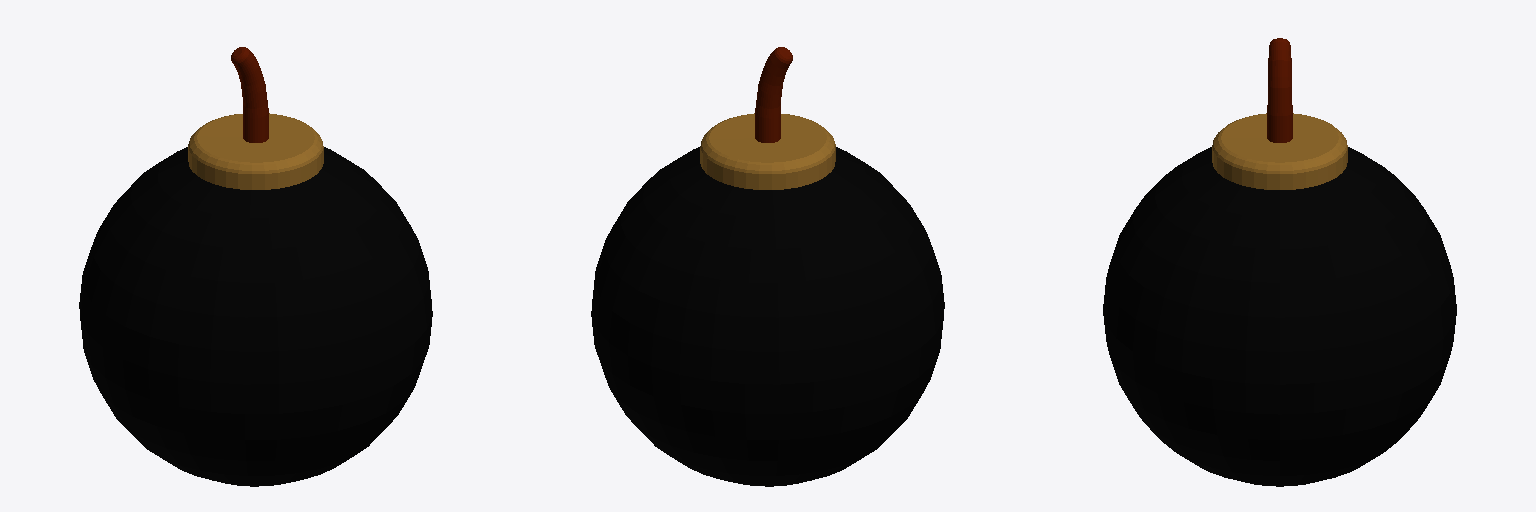
The model's file is Bomb.obj.
3 views of the same model, side by side, from view 1: azimuth 30°, elevation 25°; view 2: azimuth 150°, elevation 25°; view 3: azimuth 270°, elevation 25° (orthographic).
Parts seen in each view (by area): view 1: Bomb_Sphere.002; view 2: Bomb_Sphere.002; view 3: Bomb_Sphere.002.
Boxes of the visible parts, box(x1,y1,x2,y2) form: Bomb_Sphere.002: box(79, 47, 432, 486); Bomb_Sphere.002: box(591, 47, 944, 486); Bomb_Sphere.002: box(1103, 38, 1456, 486).
Size of the model in its own units: 0.8 by 1.05 by 0.8.